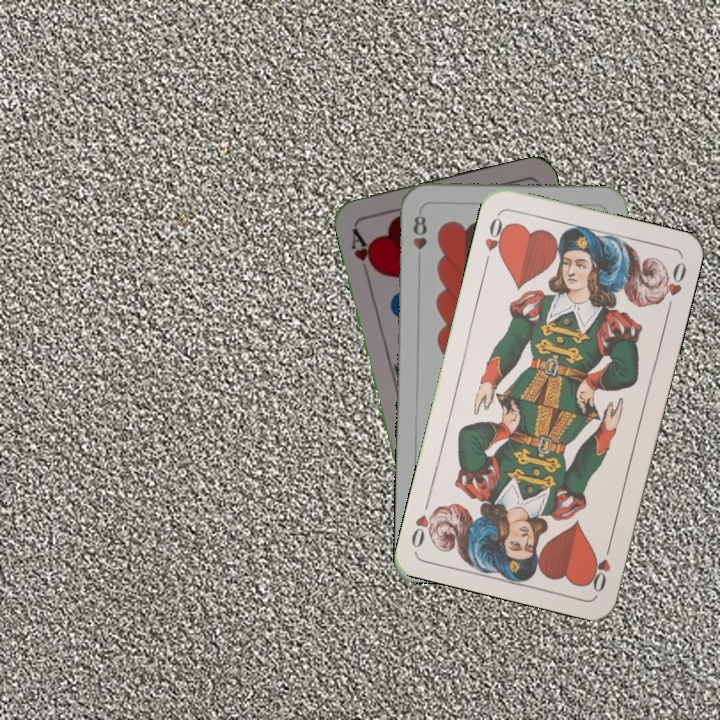H8: (408, 207, 429, 252)
HA: (347, 224, 380, 281)
HO: (480, 211, 511, 269), (586, 537, 615, 595)
